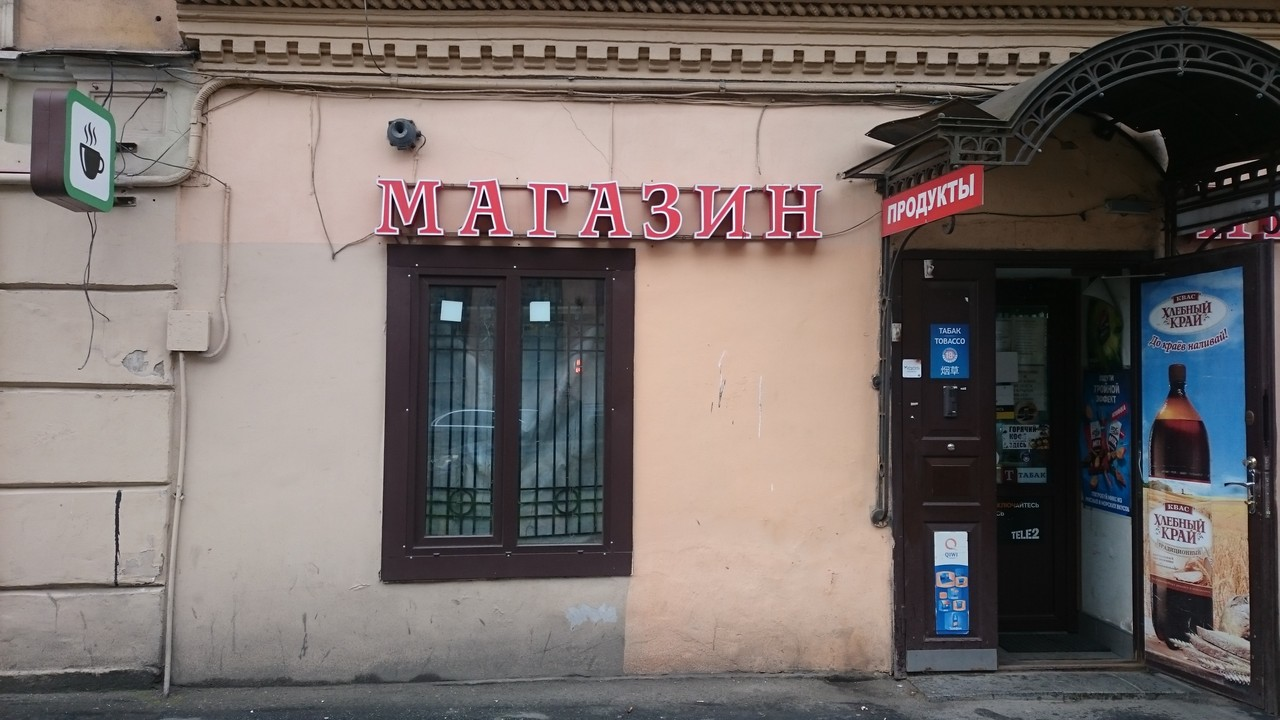cantilever: (27, 85, 141, 219)
door: (991, 253, 1278, 709)
signboard: (370, 176, 824, 245)
window: (412, 268, 613, 557)
